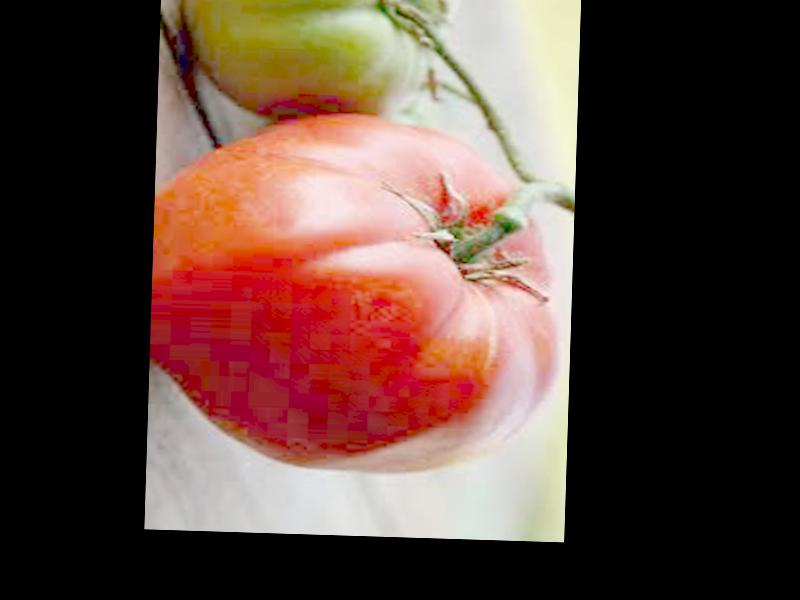Tomato: (145, 110, 569, 480)
